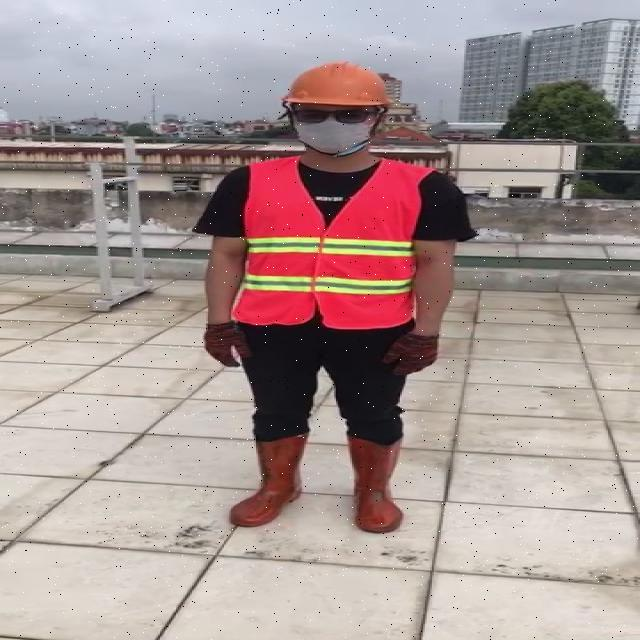Hard_hat: (275, 57, 395, 119)
Vest: (239, 155, 423, 330)
